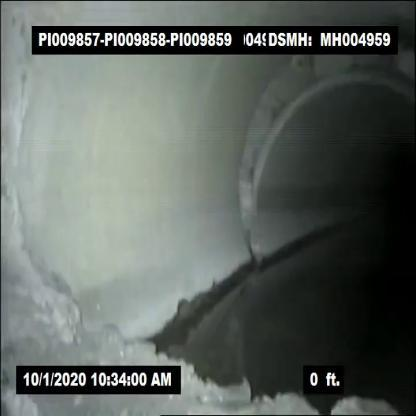jntoffs: (238, 54, 416, 248)
